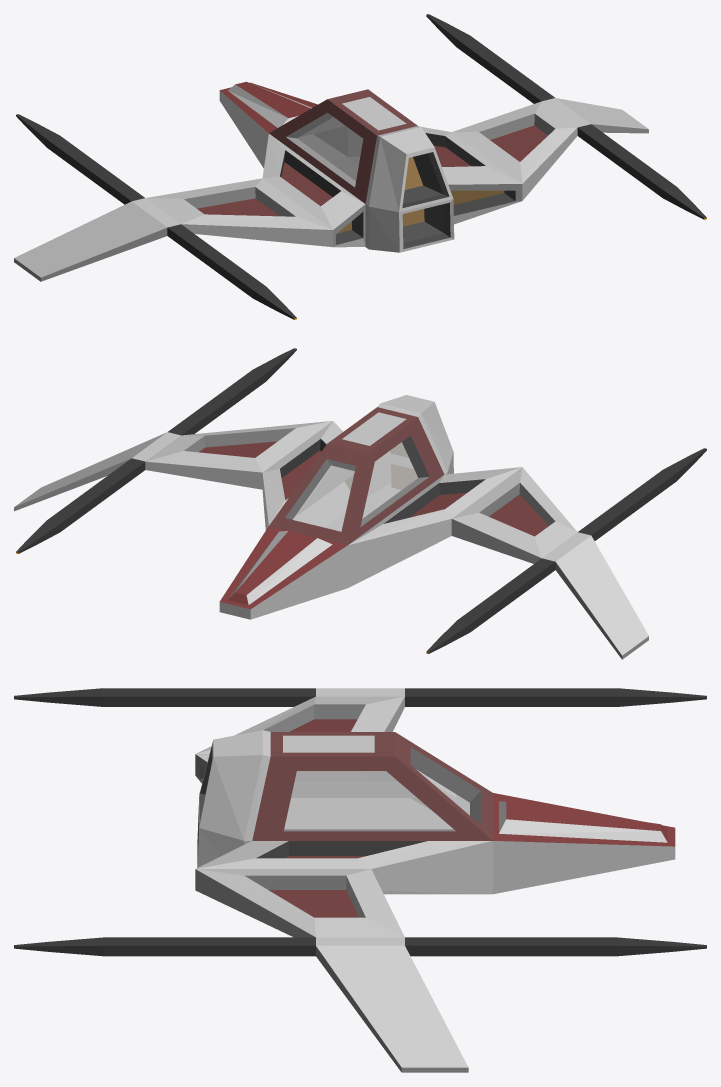
The model's file is spaceship.fbx.
3 views of the same model, one above another, from view 1: azimuth 30°, elevation 25°; view 2: azimuth 150°, elevation 25°; view 3: azimuth 270°, elevation 25° (orthographic). The views are drawn at different scales.
Parts seen in each view (by area): view 1: spaceship; view 2: spaceship; view 3: spaceship.
Part boxes in pixels (bbox=[...]): spaceship: bbox=[14, 14, 706, 319]; spaceship: bbox=[14, 348, 706, 659]; spaceship: bbox=[14, 688, 706, 1072].
Bounding box in the file's own units: 40.19 × 7.37 × 31.84.
